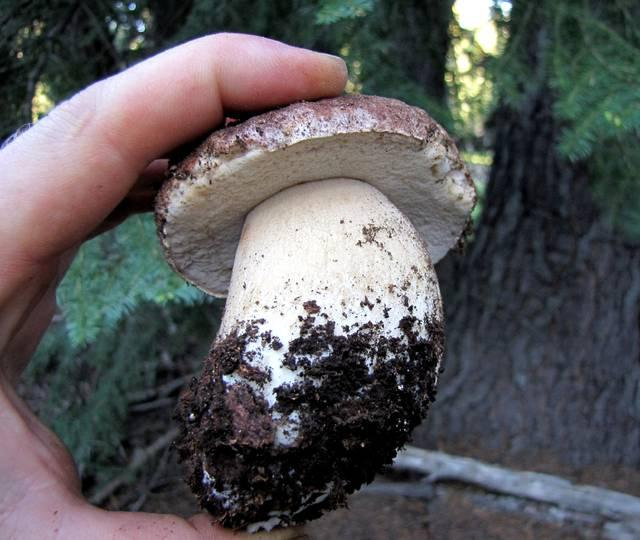Edible Mushroom: (152, 92, 478, 533)
